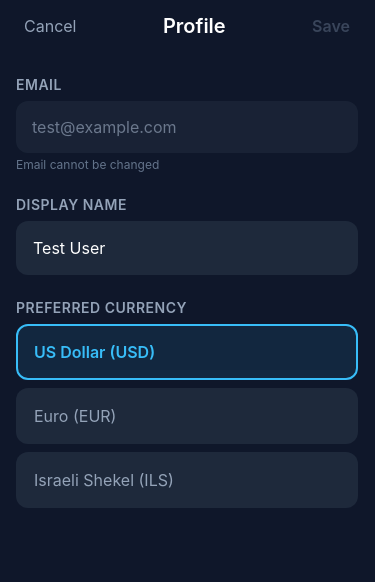
Test: ProfileScreen › Successful Save › shows success message after save
The image size is (375, 582).
Replace the text in the field with test id "profile.displayNameInput" with "New Name" at (187, 248), box [16,221,358,275]
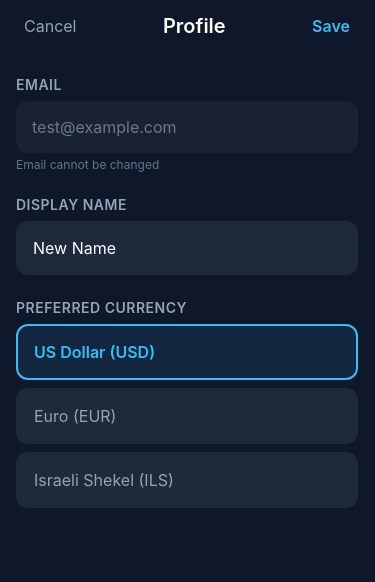
Click the element with test id "profile.saveButton" at (331, 26), box [312,16,350,36]
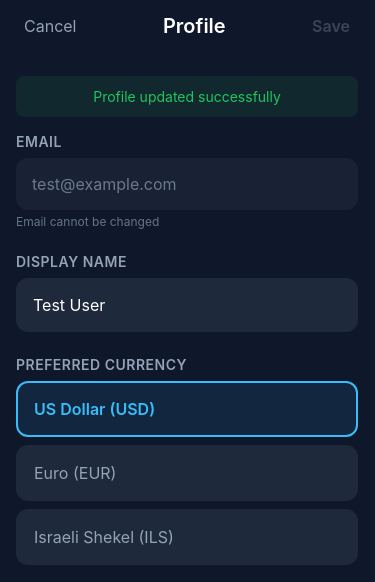
Expected: the element with test id "profile.successMessage" is shown, [16,76,358,117]
Expected: the text "Profile updated successfully" is shown, [93,88,281,105]
